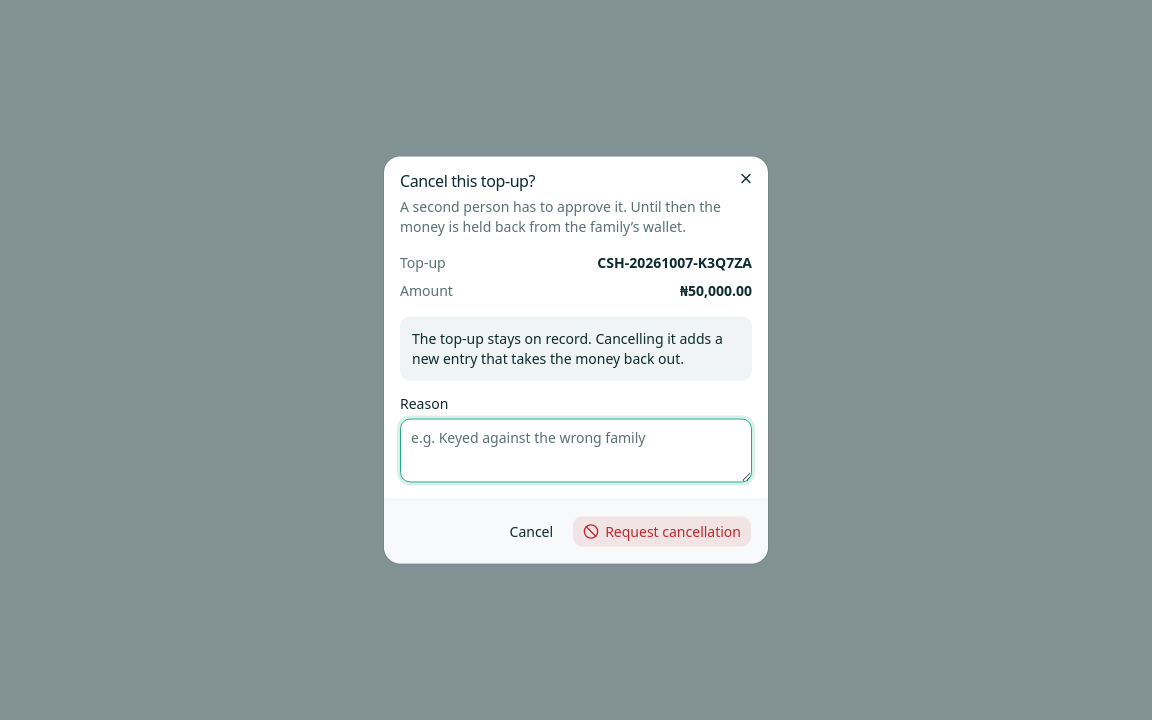
Test: CancelTopUpDialog › needs a reason and sends nothing without one
This screenshot has width=1152, height=720.
Click the button "Request cancellation" at (662, 532), box left=572, top=516, right=752, bottom=548
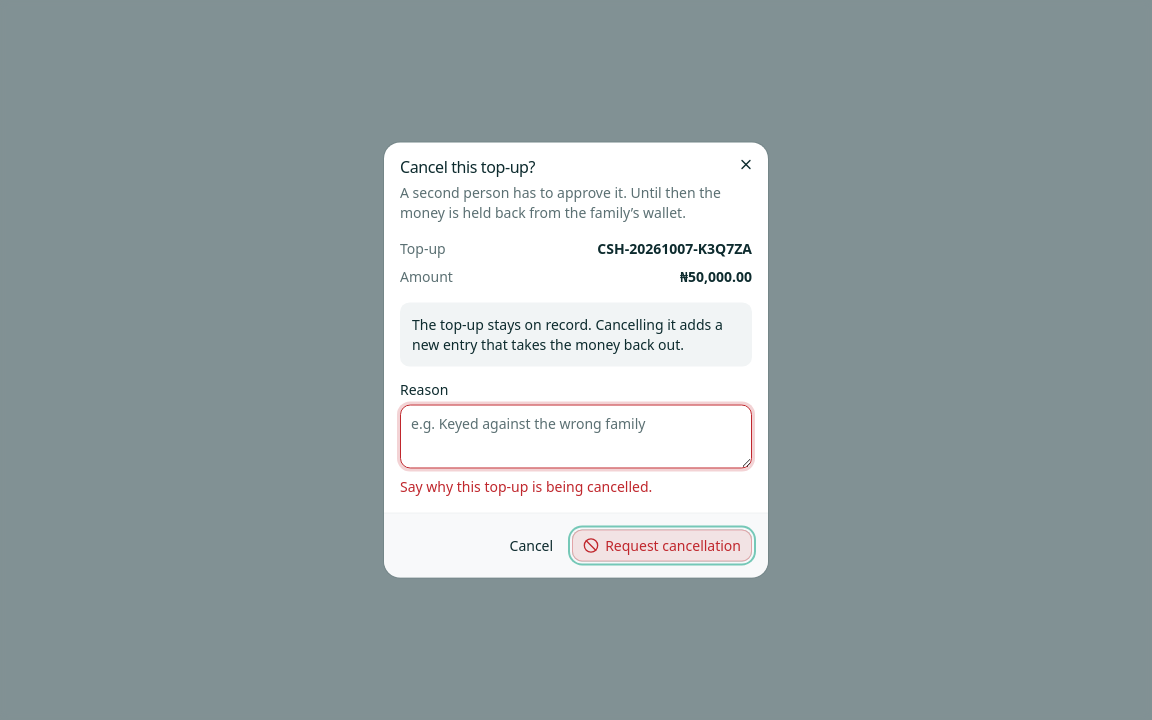
expect the text "Say why this top-up is being cancelled." is shown: met, box left=400, top=476, right=652, bottom=496
